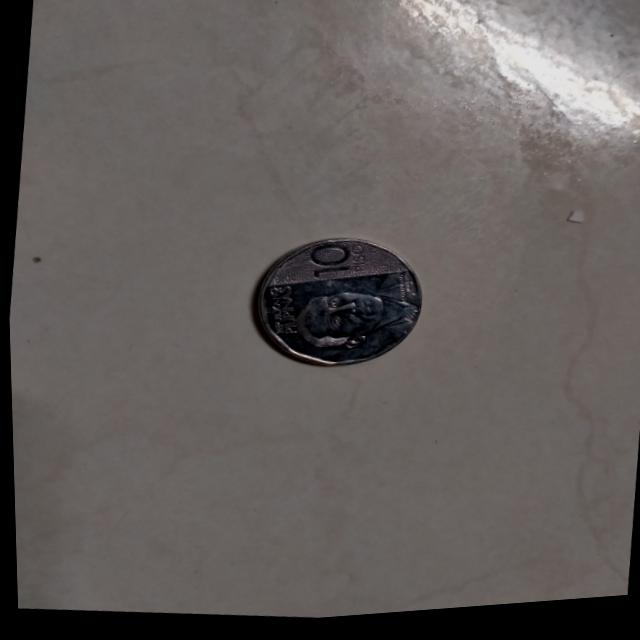10_New_Front: (257, 234, 413, 367)
